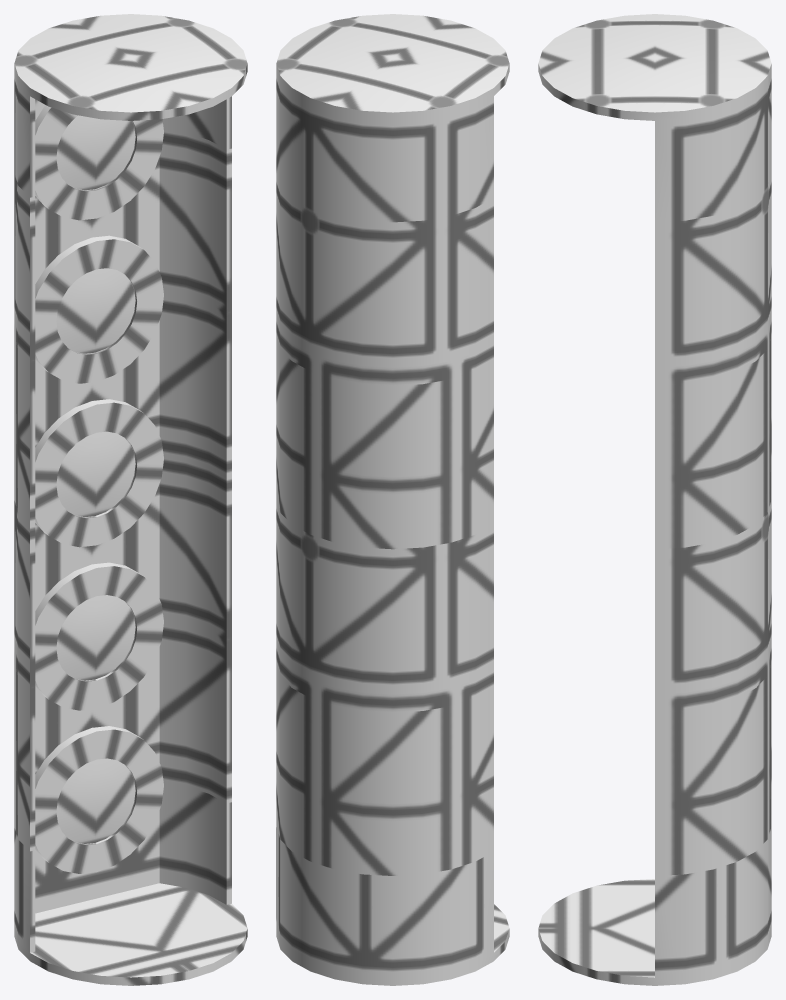
The model's file is engine_mount.fbx.
3 views of the same model, side by side, from view 1: azimuth 30°, elevation 25°; view 2: azimuth 150°, elevation 25°; view 3: azimuth 270°, elevation 25° (orthographic).
Visible parts, largest first — view 1: mesh; view 2: mesh; view 3: mesh.
Boxes of the visible parts, <box> form: mesh: <box>14,14,247,985</box>; mesh: <box>276,14,509,985</box>; mesh: <box>538,14,771,985</box>.
Size of the model in its own units: 0.9375 by 3.92 by 0.9375.
